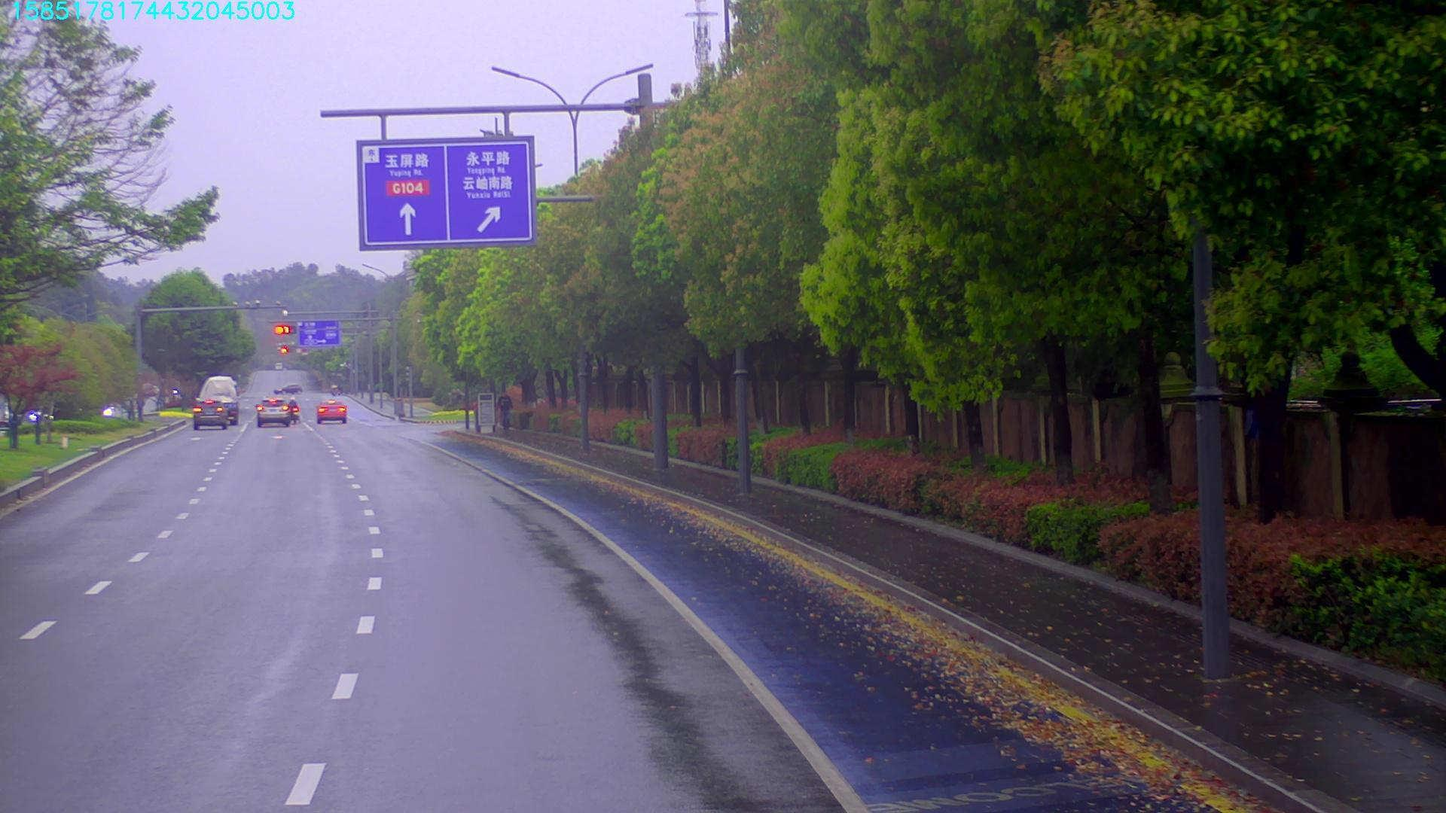red: (273, 320, 295, 333)
